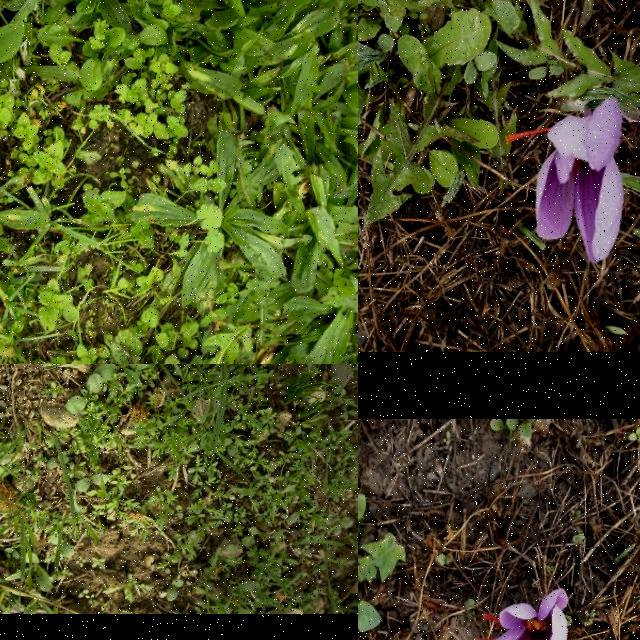flower: (506, 96, 624, 264), (475, 588, 568, 640)
